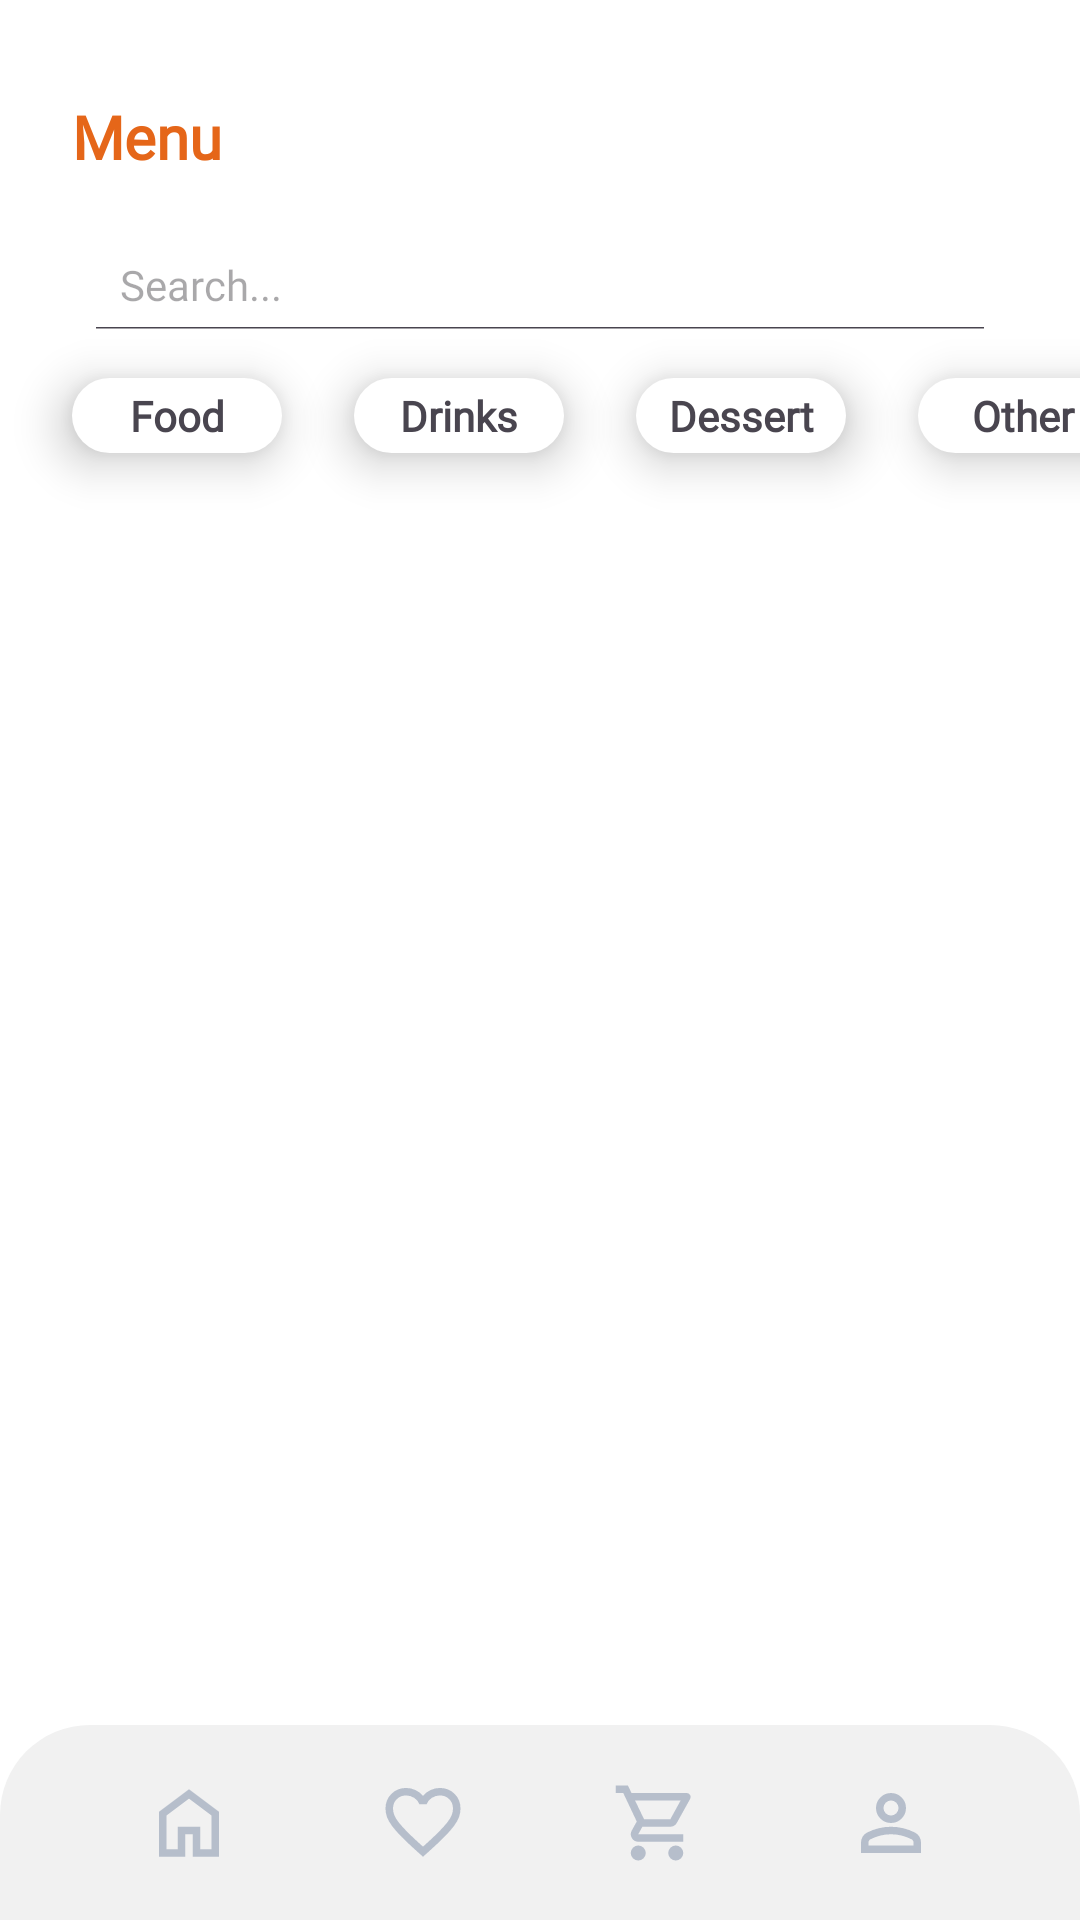

Named icons in this screenshot (1080 × 1920) and their centers, point (x, y):
account: point (891, 1823)
cart: point (653, 1823)
heart: point (423, 1822)
home: point (189, 1823)
